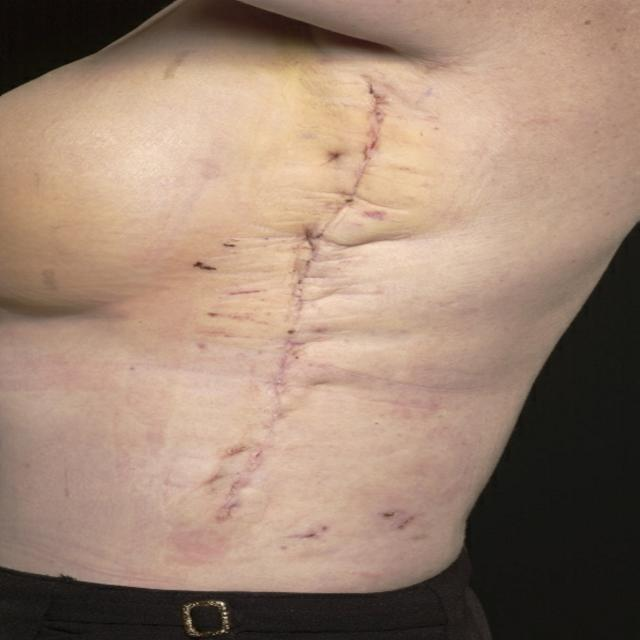wound: (158, 64, 442, 562)
